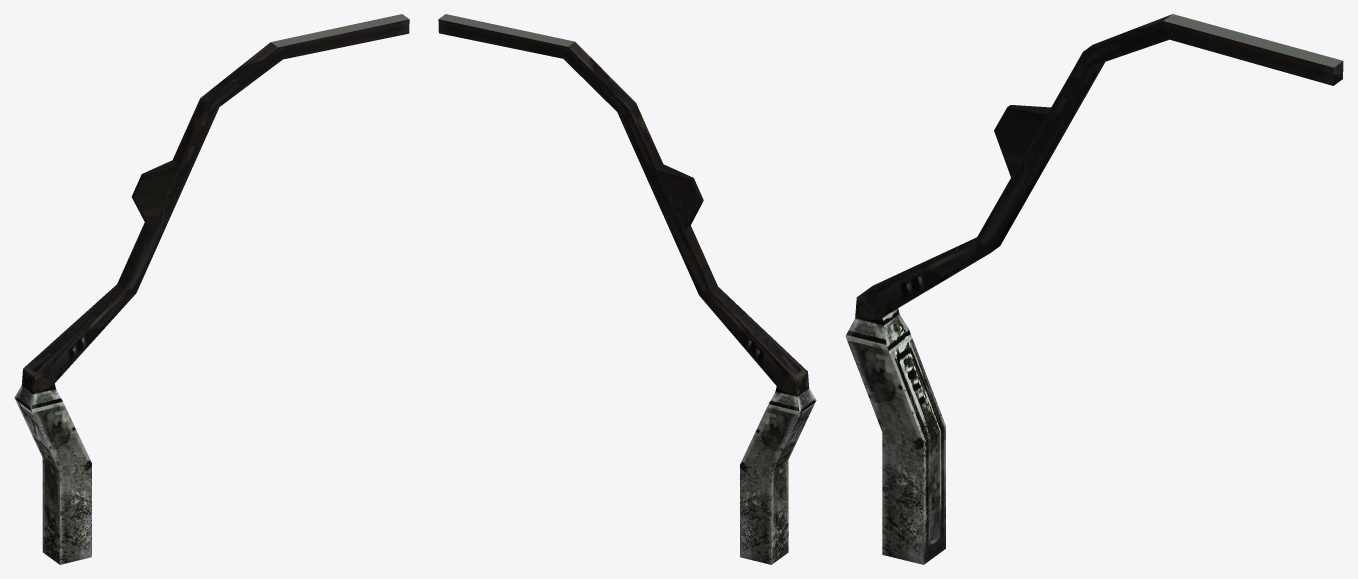
File: Props_machin.fbx
3 views of the same model, side by side, from view 1: azimuth 30°, elevation 25°; view 2: azimuth 150°, elevation 25°; view 3: azimuth 330°, elevation 25° (orthographic). The views are drawn at different scales.
Visible parts, largest first — view 1: Props_Unknown; view 2: Props_Unknown; view 3: Props_Unknown.
Part boxes in pixels (x1,y1,x2,y2): Props_Unknown: (14, 14, 409, 564); Props_Unknown: (438, 14, 816, 564); Props_Unknown: (845, 14, 1343, 564).
Size of the model in its own units: 11.55 by 13.61 by 0.9544.
